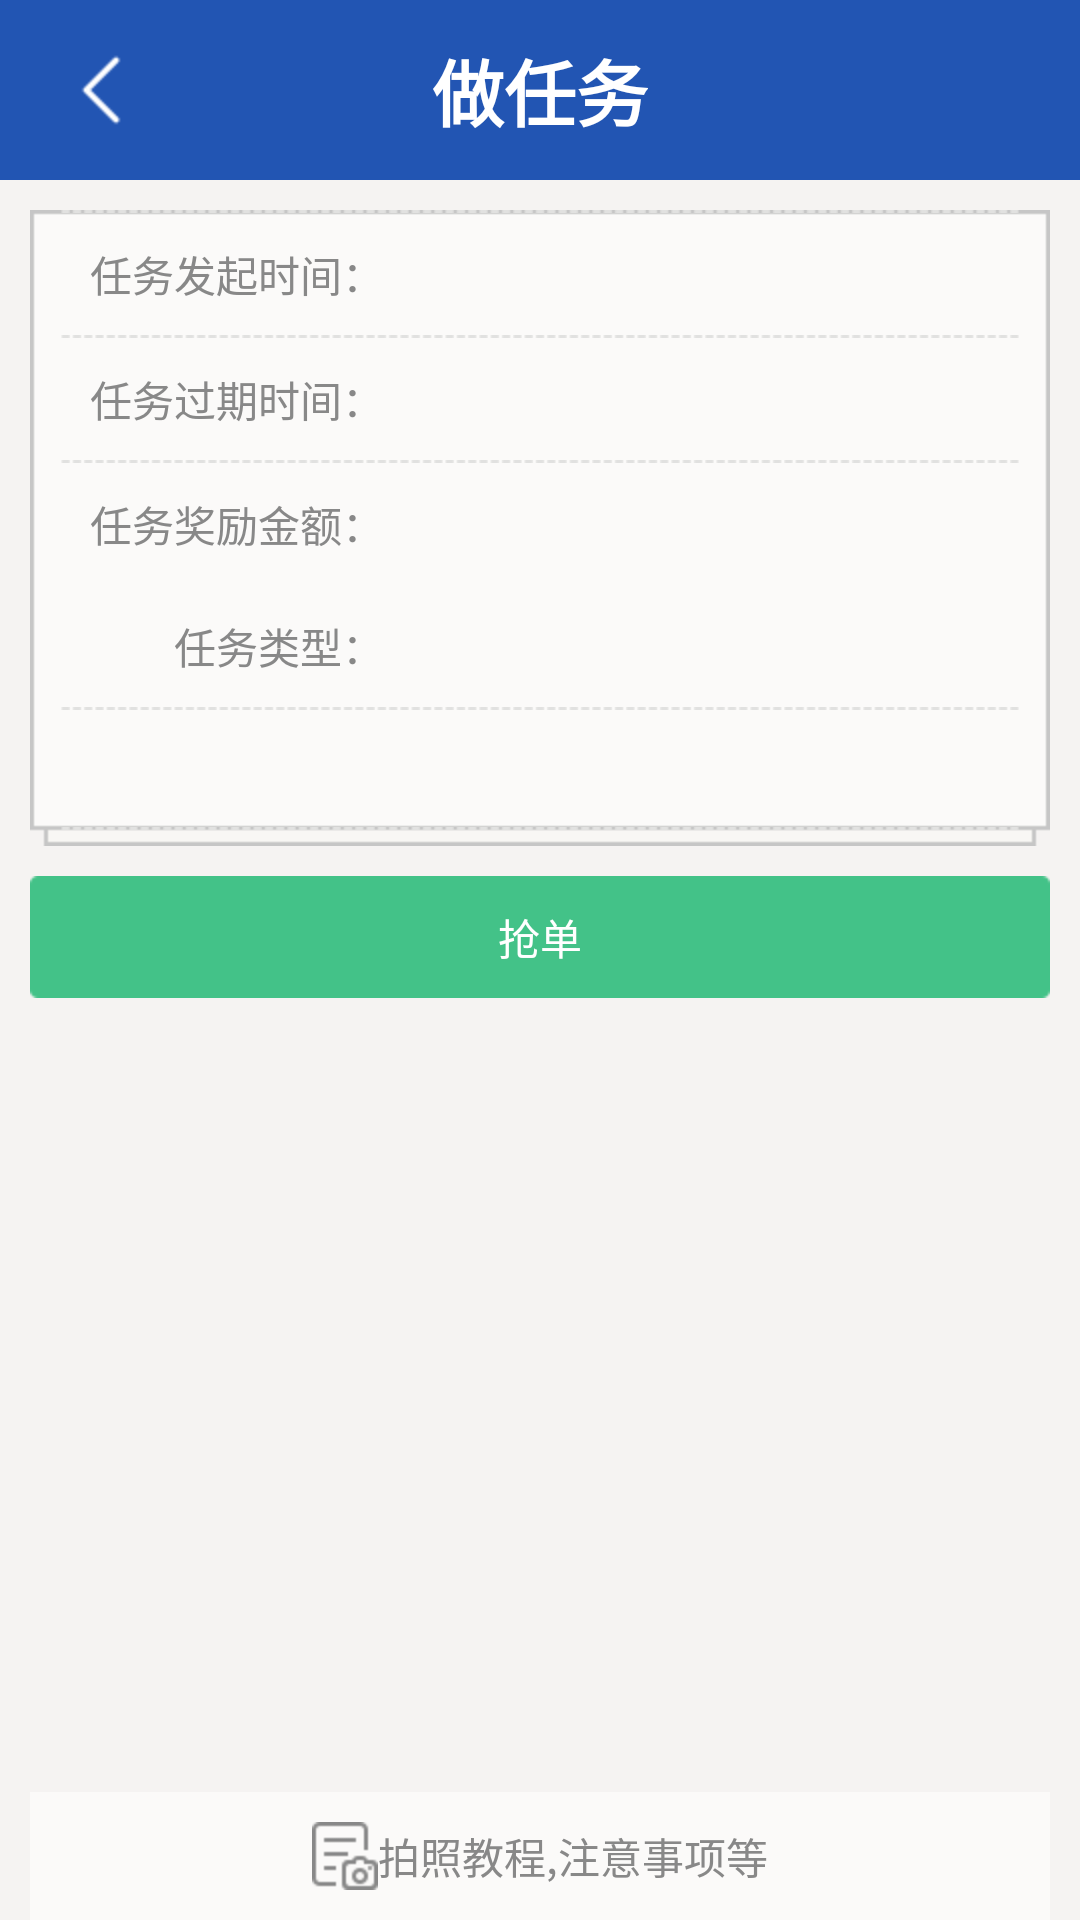

Icon click points for this 1080*1920 phone screenshot, format [x,y]:
back: [101,90]
camera bottom teach: [345,1856]
